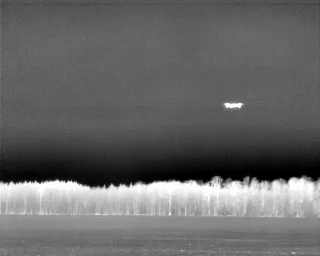DRONE: (220, 97, 247, 114)
